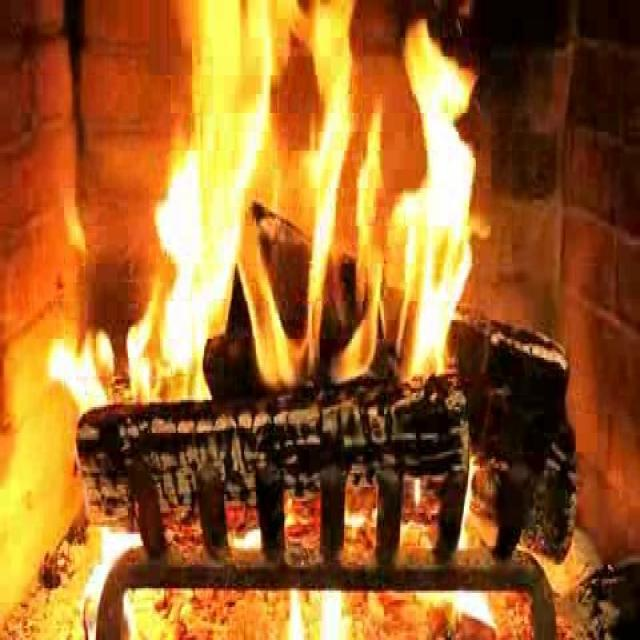Fire: (140, 14, 470, 414)
